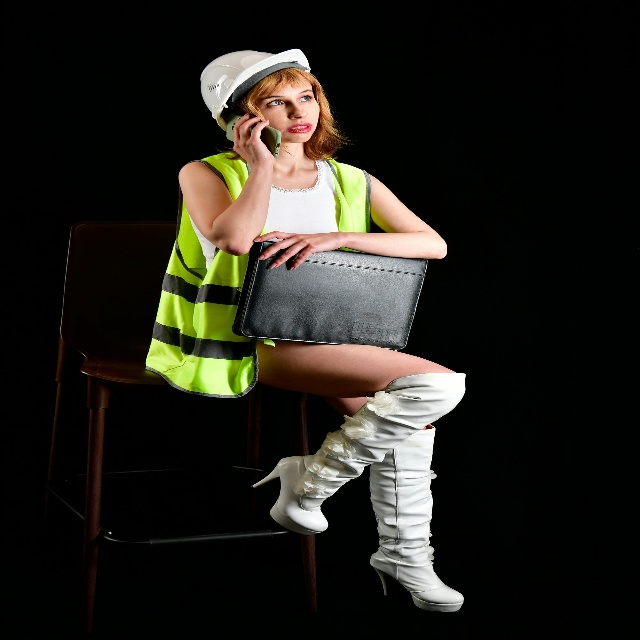Sin_guantes: (253, 229, 340, 271), (232, 113, 276, 165)
